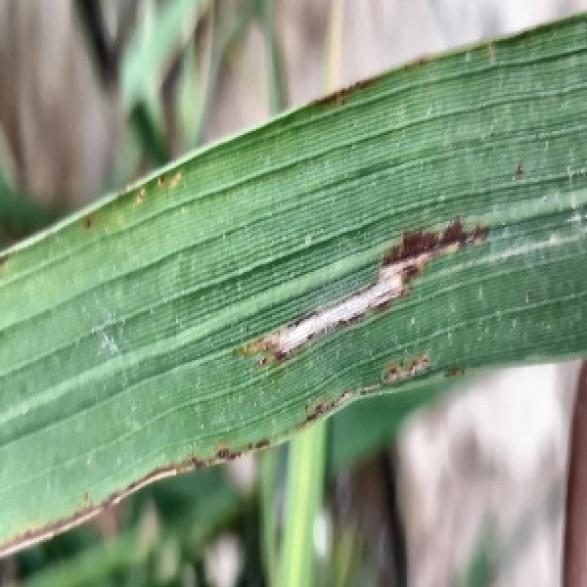Leaf_smut: (221, 174, 511, 423)
